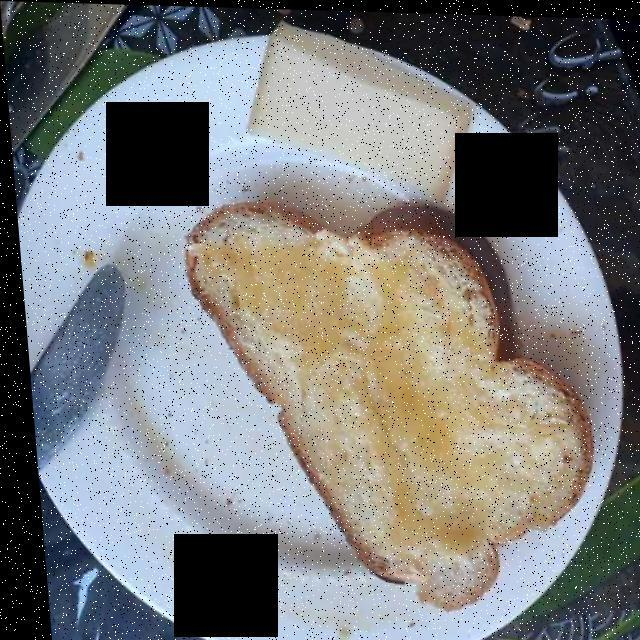bread: (181, 204, 580, 603)
butter: (183, 204, 580, 602)
cheese: (246, 28, 468, 185)
honey: (181, 206, 571, 603)
